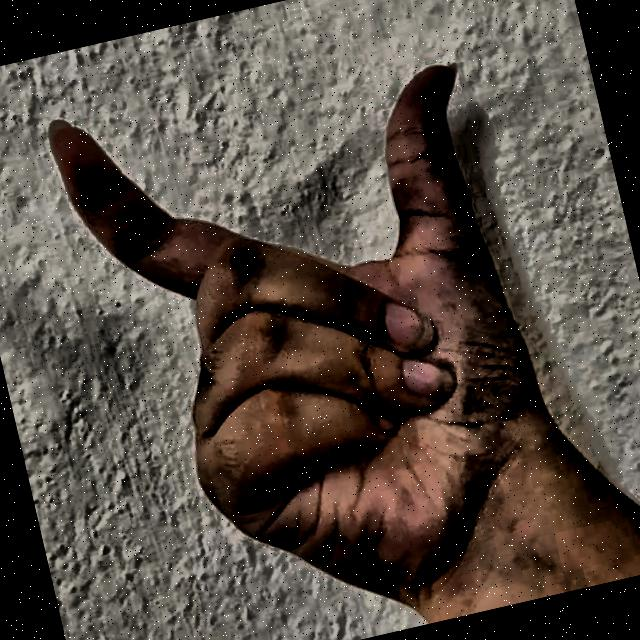ChandraBindu: (9, 0, 623, 640)
